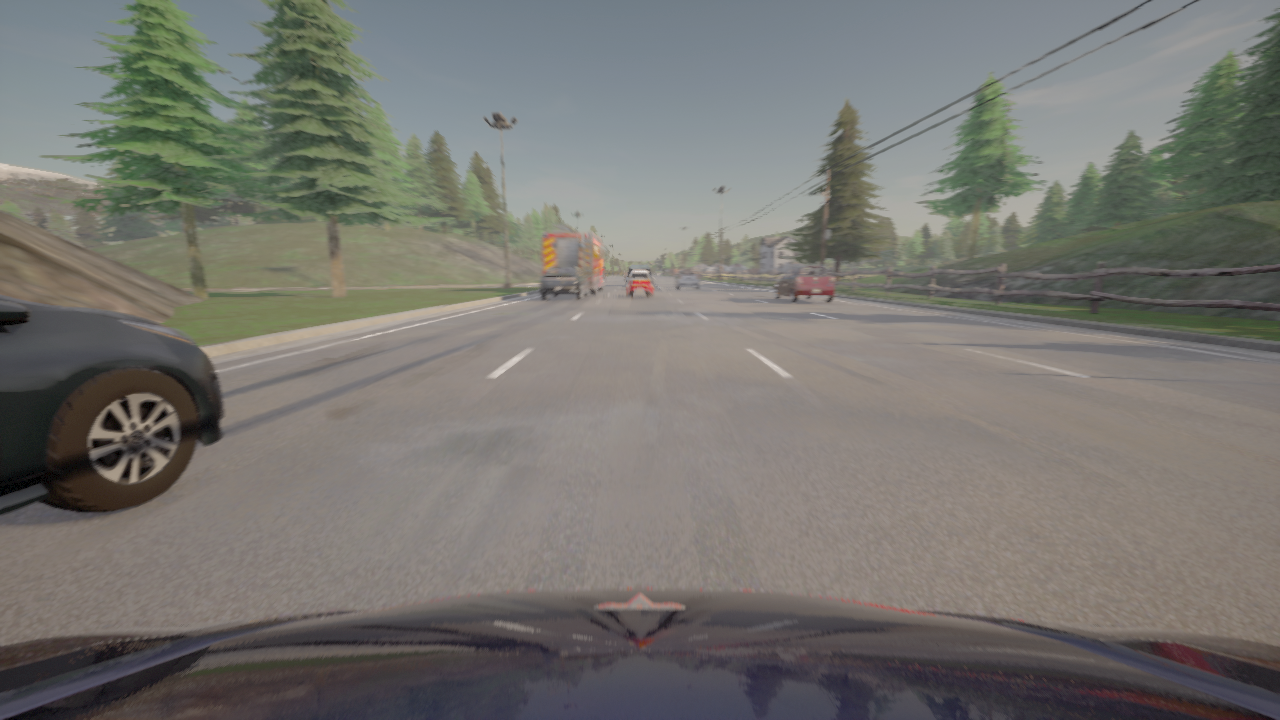cyclist: (0, 588, 1279, 719), (542, 223, 608, 293), (774, 266, 835, 302), (540, 266, 589, 299), (626, 270, 653, 297), (625, 264, 653, 284), (674, 269, 700, 289)
